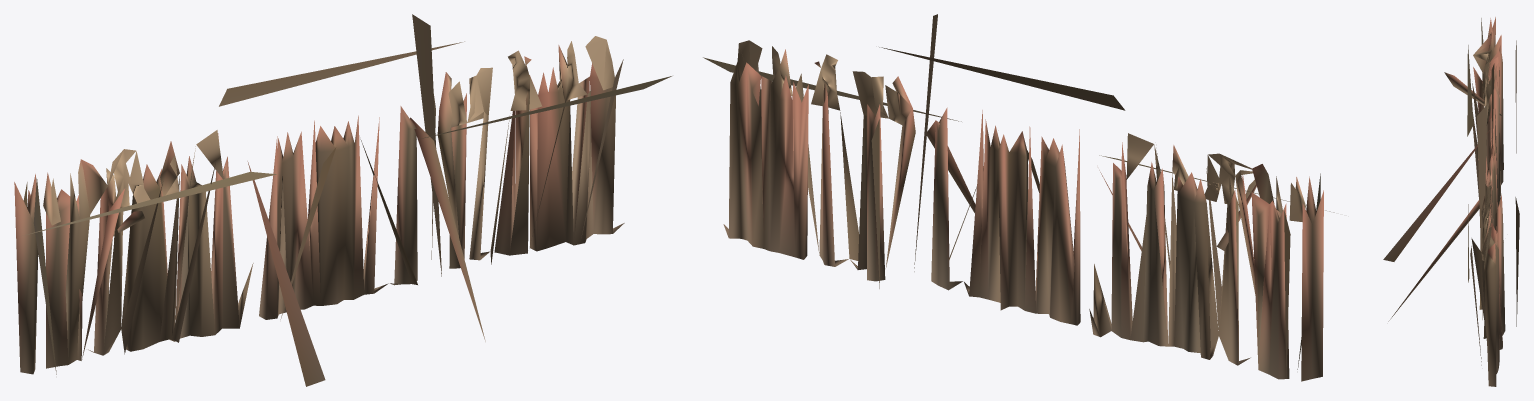
File: portal_madera_a_lejos.glb
The picture shows the model from 3 angles, left to right: view 1: azimuth 30°, elevation 25°; view 2: azimuth 150°, elevation 25°; view 3: azimuth 270°, elevation 25°; orthographic projection. The views are drawn at different scales.
Visible parts, largest first — view 1: portal_madera_a_lejos; view 2: portal_madera_a_lejos; view 3: portal_madera_a_lejos.
Boxes of the visible parts, x1=… form: portal_madera_a_lejos: x1=14, y1=14, x2=671, y2=386; portal_madera_a_lejos: x1=703, y1=14, x2=1334, y2=381; portal_madera_a_lejos: x1=1383, y1=17, x2=1519, y2=386.
Size of the model in its own units: 7.02 by 2.96 by 1.66.
